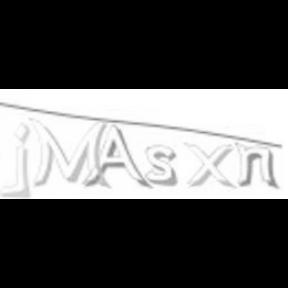A: (80, 122, 150, 189)
M: (29, 116, 111, 188)
j: (0, 122, 32, 200)
n: (237, 142, 281, 188)
s: (145, 144, 177, 184)
x: (183, 140, 235, 190)
